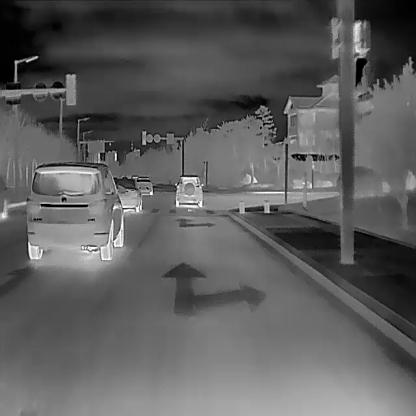car: (23, 159, 123, 260), (113, 176, 142, 212), (174, 174, 202, 207), (135, 175, 152, 195), (130, 174, 139, 180)
